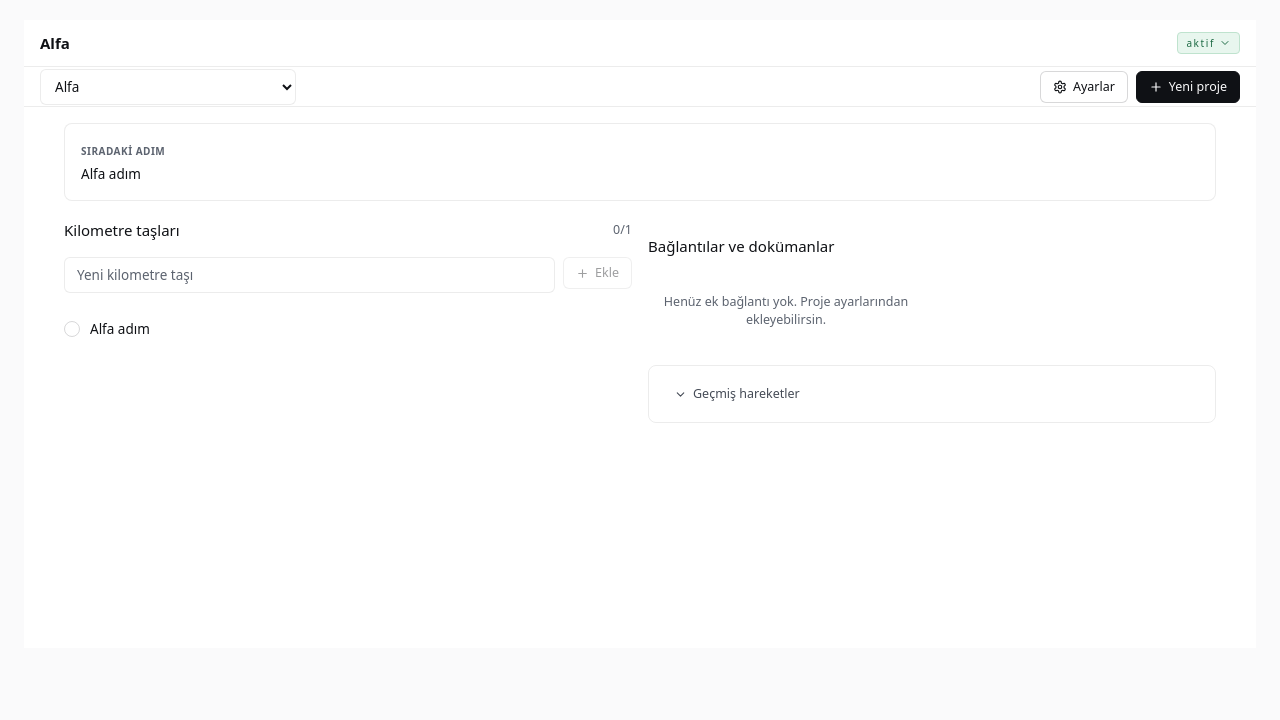
it: ProjectsPage › liste tiklama ile secim degisir ve milestone zaman cizelgesi gorunur
expect the heading "Alfa" is shown: met, box x1=40 y1=33 x2=70 y2=53
Select "Beta" in the dropdown named "Proje seç" at (168,86), box x1=40 y1=68 x2=296 y2=104
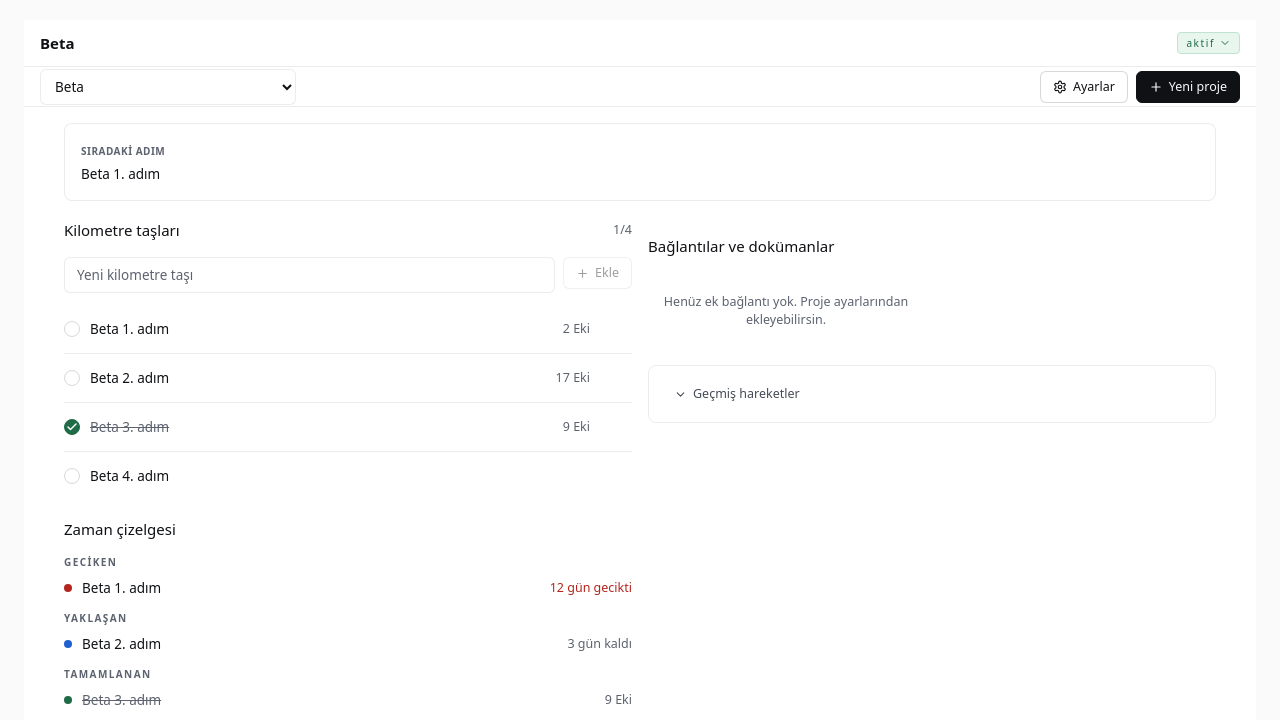
expect the heading "Beta" is shown: met, box x1=40 y1=33 x2=74 y2=53
expect the number of list items with test id "milestone-timeline-row" is 4: met
expect the text "Geciken" is shown: met, box x1=64 y1=555 x2=117 y2=569
